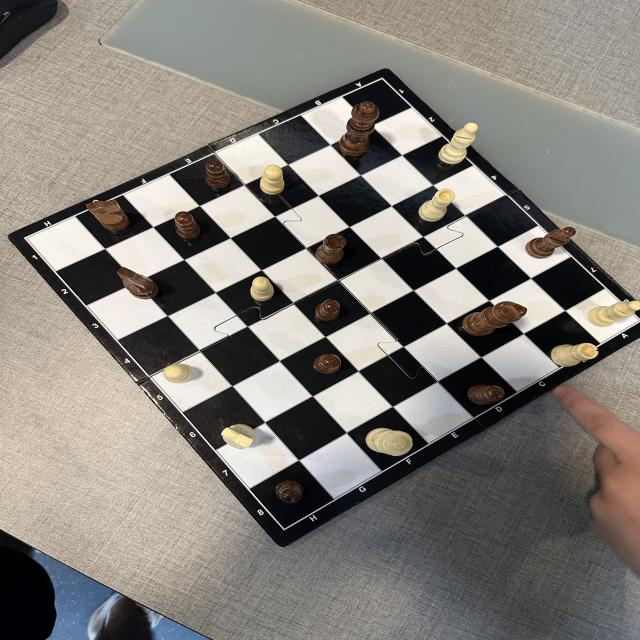Black-Bishop: (526, 226, 576, 259)
Black-King: (462, 300, 527, 336)
Black-Knight: (116, 266, 158, 300), (88, 199, 129, 229)
Black-Pawn: (174, 211, 202, 239), (467, 384, 506, 404), (205, 161, 231, 188), (275, 480, 305, 502), (314, 353, 342, 374), (315, 300, 340, 321)
Black-Queen: (339, 101, 379, 155)
Black-Rook: (316, 234, 346, 263), (250, 277, 274, 301)
White-Bishop: (439, 122, 478, 164), (588, 300, 640, 326)
White-Knight: (222, 423, 255, 449)
White-Pawn: (259, 164, 285, 194), (164, 363, 191, 382)
White-Queen: (367, 427, 412, 456)
White-Rook: (419, 188, 455, 222), (550, 342, 598, 367)
